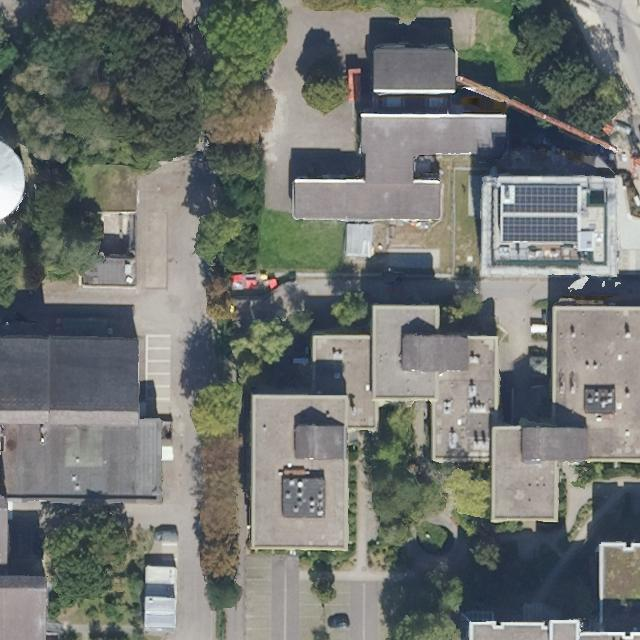PV: (499, 183, 577, 212), (502, 215, 577, 241)
